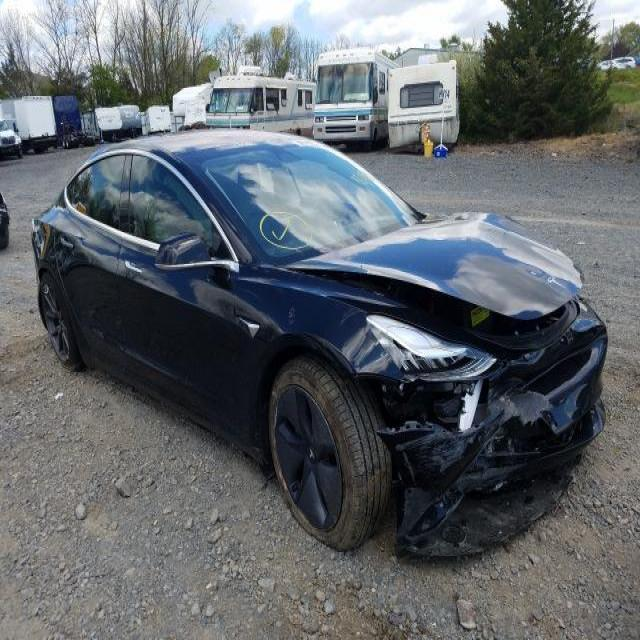damaged: (362, 276, 604, 575)
